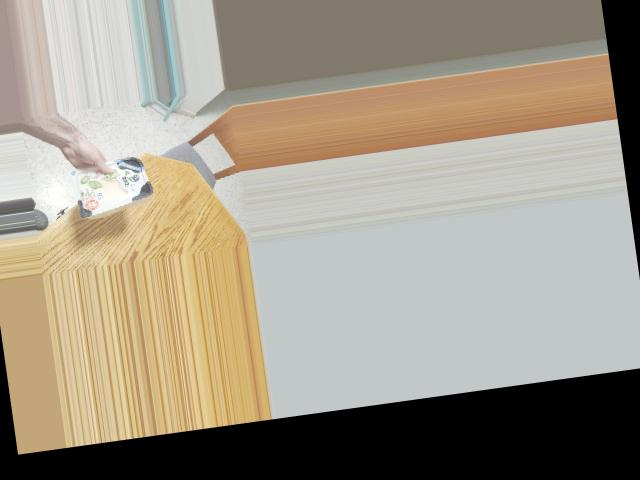cheese: (71, 152, 154, 220)
